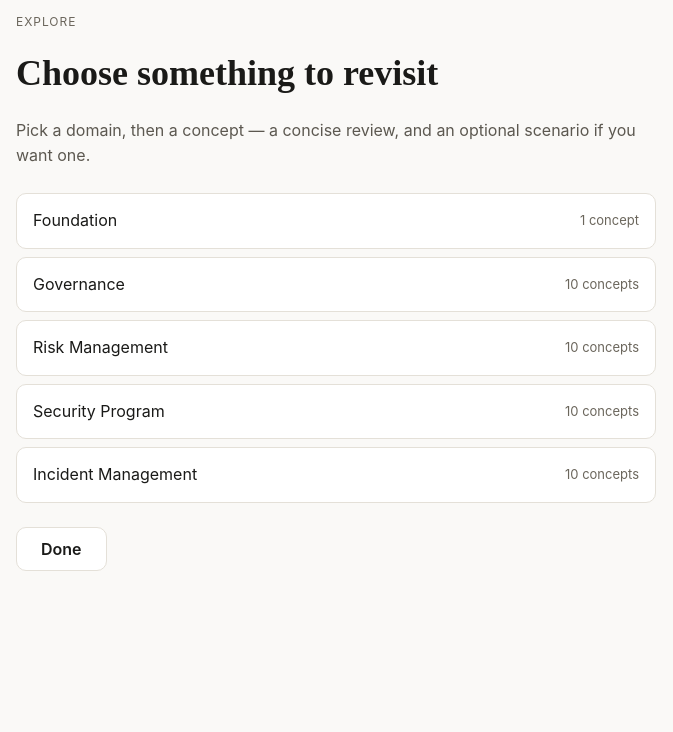
Scenario: ExploreScreen › 2 & 3. choosing a domain then a concept shows a concise, relevant concept review before any question
Step 1. Click the button "Governance 10 concepts" → click(79, 284), box [16, 257, 656, 312]
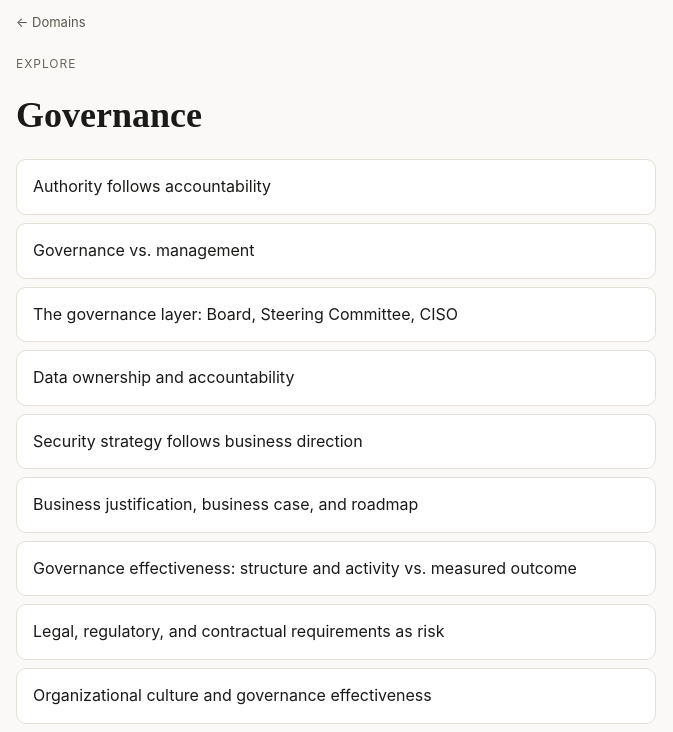
Step 2. Click the button "Governance vs. management" → click(144, 250), box [16, 223, 656, 278]
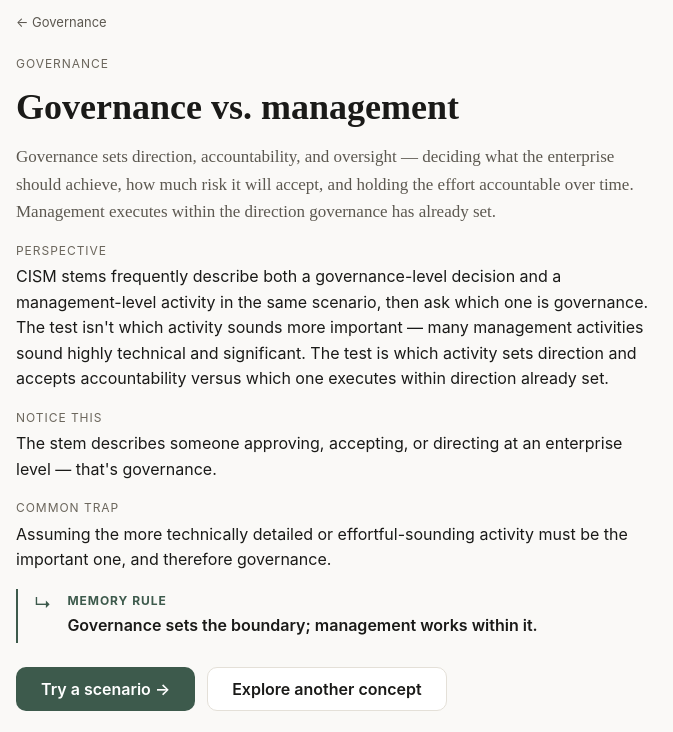
Expected: the heading "Governance vs. management" is shown, [16, 87, 459, 127]
Expected: the text "Governance sets direction" is shown, [16, 147, 634, 221]
